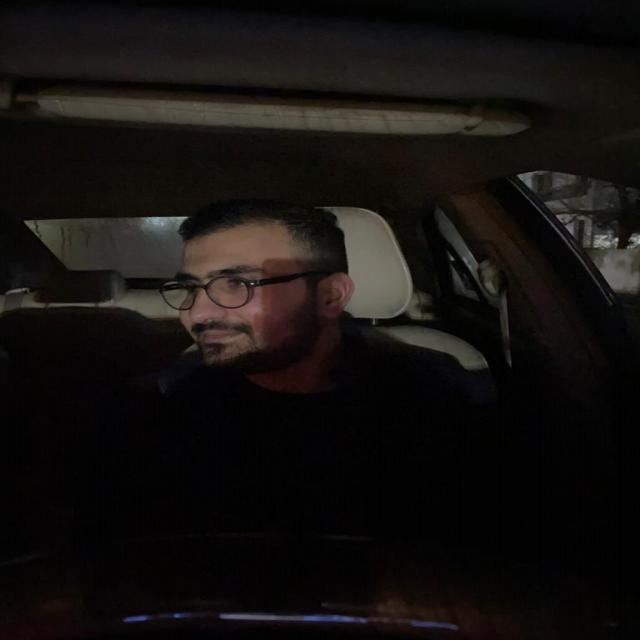person: (156, 192, 371, 386)
